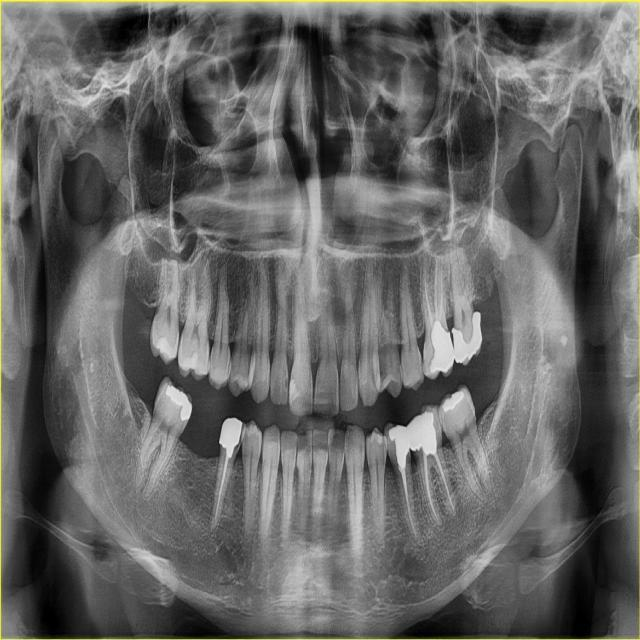72: (483, 270, 497, 296)
74: (397, 463, 417, 539), (431, 451, 455, 512), (420, 448, 438, 522), (214, 451, 229, 521), (433, 259, 446, 322), (424, 288, 434, 329)
NucleOSS Implant: (449, 310, 485, 364), (162, 379, 198, 423), (405, 412, 439, 457), (429, 321, 457, 373), (387, 423, 417, 471), (216, 415, 243, 459), (438, 385, 467, 416)
Sterngold Implant: (283, 375, 289, 391), (422, 355, 427, 369)
Straumann Implant: (153, 335, 177, 358), (181, 350, 199, 373), (288, 377, 301, 408)
